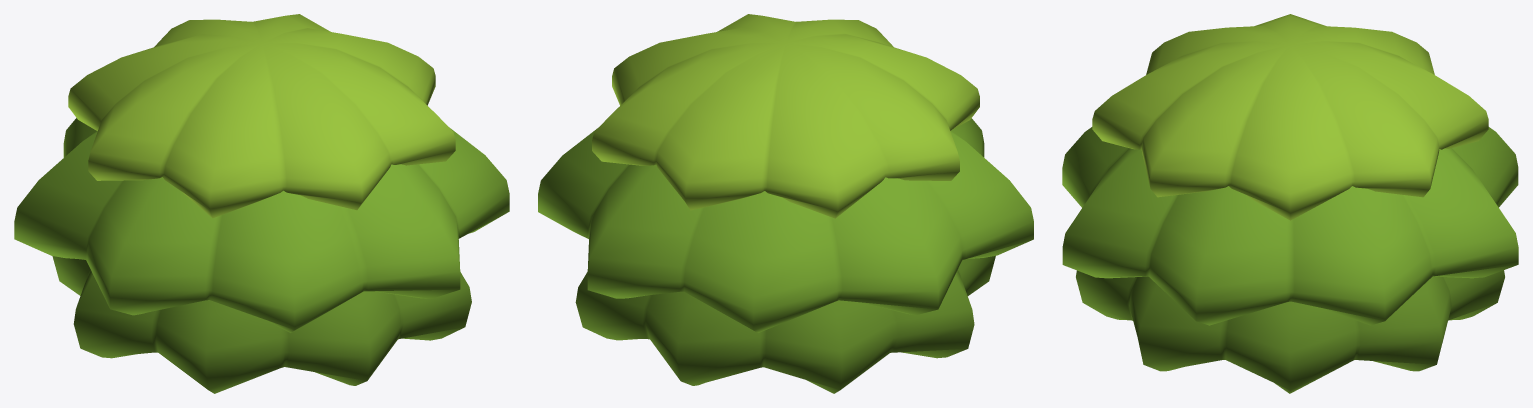
File: bush smol.fbx
3 renders of one model, left to right at view 1: azimuth 30°, elevation 25°; view 2: azimuth 150°, elevation 25°; view 3: azimuth 270°, elevation 25°, orthographic.
Parts seen in each view (by area): view 1: bush smol, bush.002, Circle.003; view 2: bush smol, bush.002, Circle.003; view 3: bush smol, bush.002, Circle.003.
Part boxes in pixels (x1,y1,x2,y2): bush smol: [68, 14, 455, 218]; bush.002: [14, 118, 509, 332]; Circle.003: [52, 256, 471, 393]; bush smol: [592, 14, 979, 218]; bush.002: [538, 118, 1033, 332]; Circle.003: [575, 256, 995, 393]; bush smol: [1092, 14, 1488, 220]; bush.002: [1062, 127, 1518, 325]; Circle.003: [1076, 270, 1504, 393].
Bounding box in the file's own units: 167 × 111 × 167.
